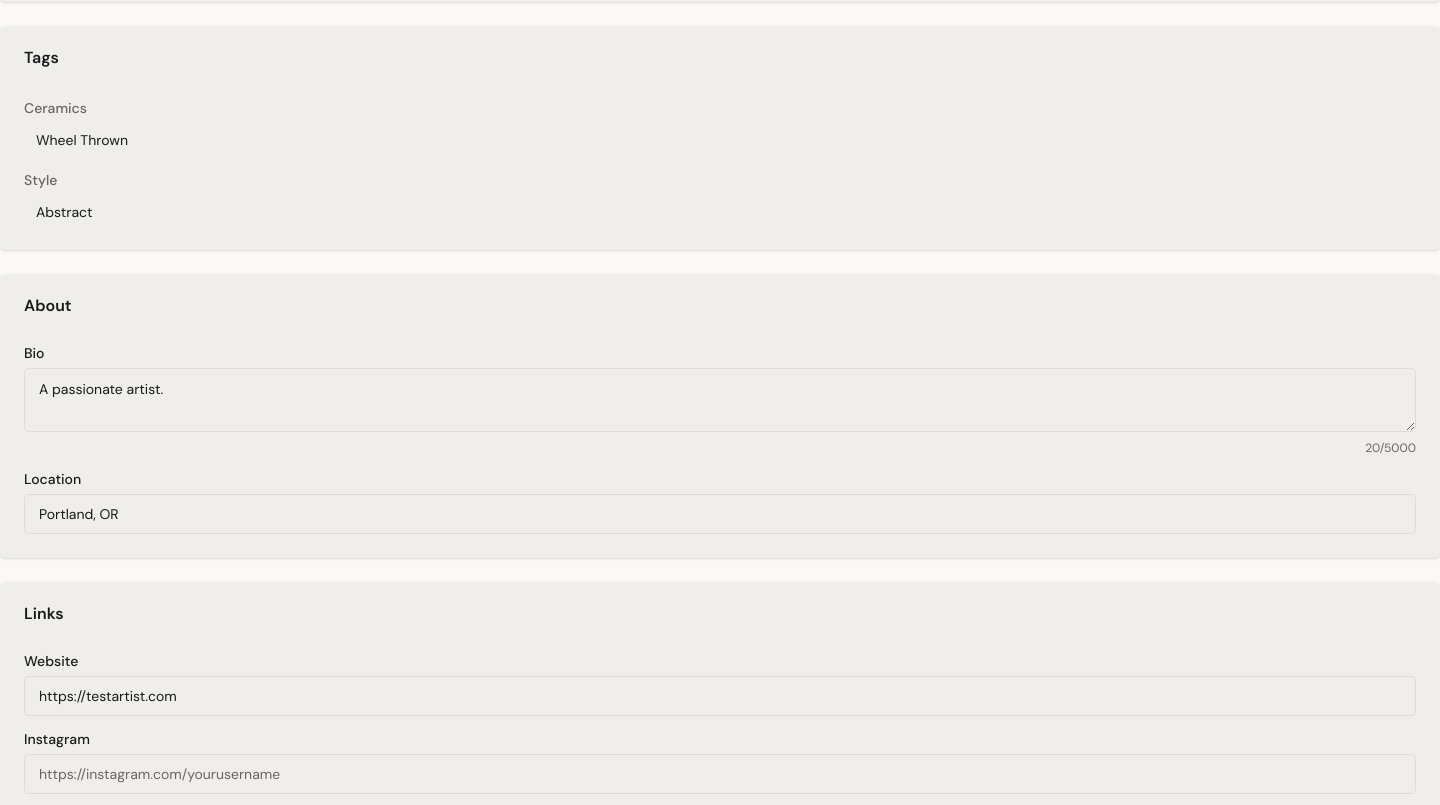
Test: ProfileForm › submission › should show success message after successful save
(page scrolled)
Replace the text in the text box with test id "profile-bio" with "Updated bio". click: (720, 400)
box: [24,368,1416,432]
(page scrolled)
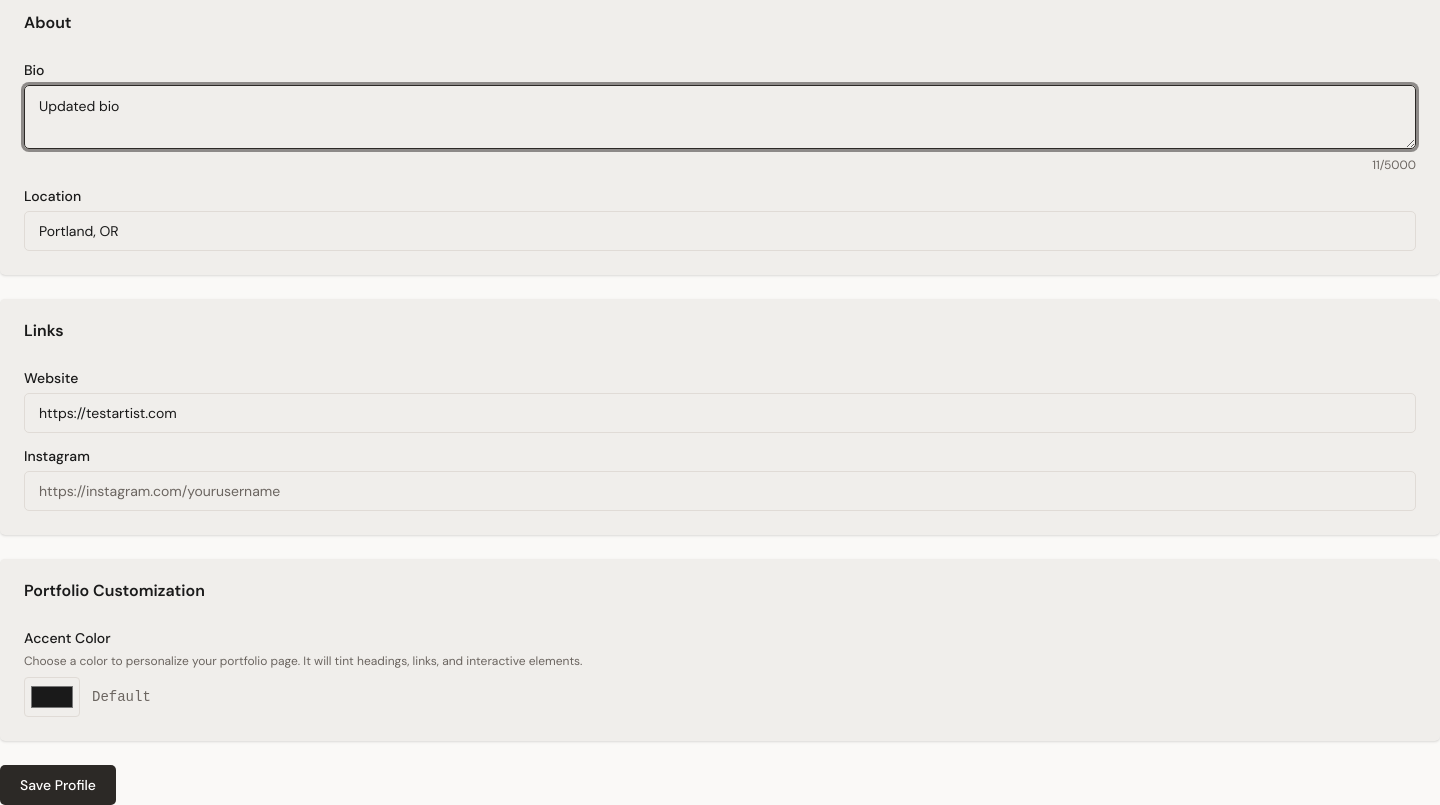
Click the button with test id "profile-save". click: (58, 785)
box: [0,765,116,804]
(page scrolled)
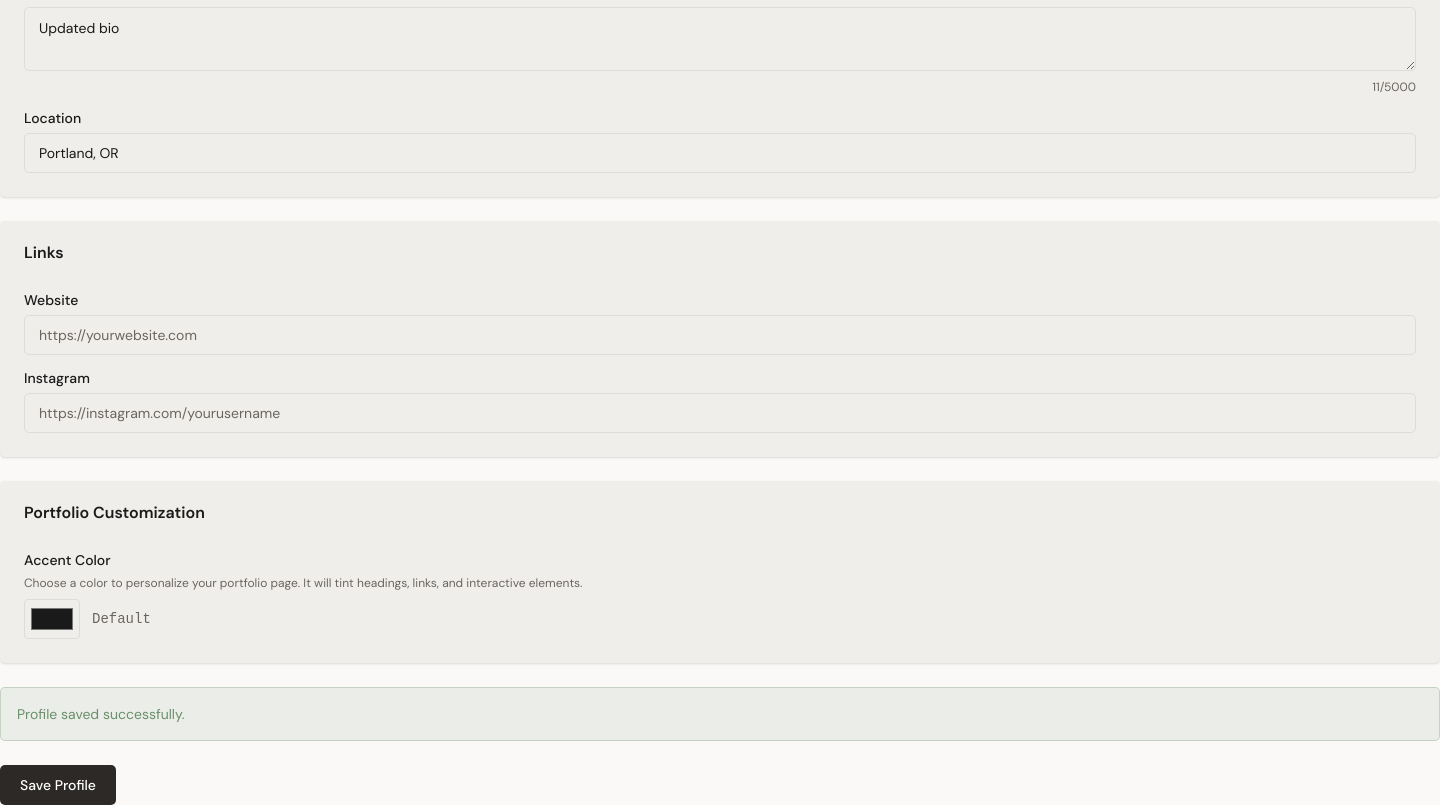
Check: the message "Profile saved successfully." is shown, box [0,687,1439,741]
